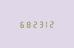eight: (23, 20, 28, 28)
one: (42, 19, 47, 27)
six: (17, 20, 22, 28)
three: (36, 20, 41, 27)
two: (30, 20, 35, 28), (48, 19, 53, 27)
